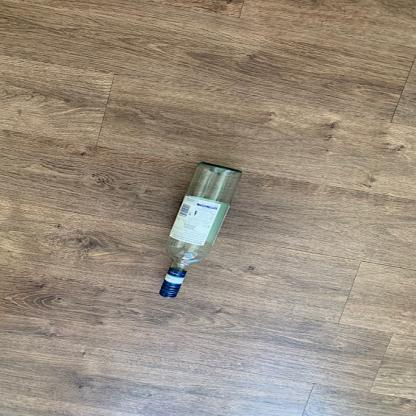trash: (154, 162, 249, 306)
